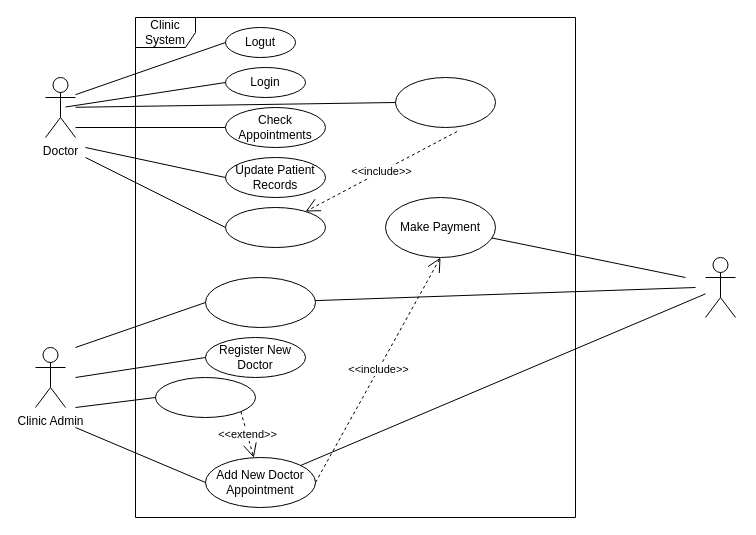
This 756x535 diagram has some shape labels left out. Here are the shapes that lost their labels. From the top down, the centre of each, then its label:
At point (445, 102): "Prescribe Medication".
At point (275, 227): "Check Patient Records".
At point (260, 302): "Cancel Doctor Appointment".
At point (720, 287): "Patient".
At point (205, 397): "Register New Patient".
